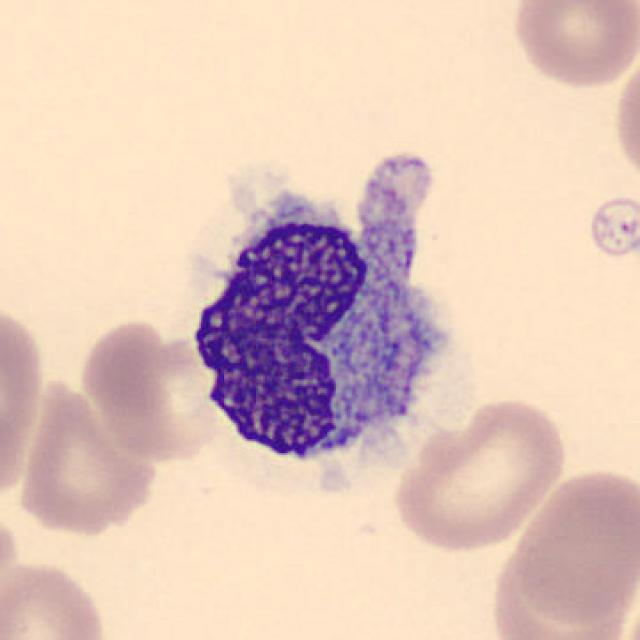Monocyte: (180, 166, 470, 488)
Platelets: (585, 194, 636, 264)
RBC: (391, 392, 571, 556), (13, 374, 164, 538), (496, 462, 638, 633), (78, 314, 235, 465), (507, 0, 638, 92), (0, 296, 48, 504), (0, 555, 114, 640), (610, 50, 640, 190), (0, 504, 21, 629)
